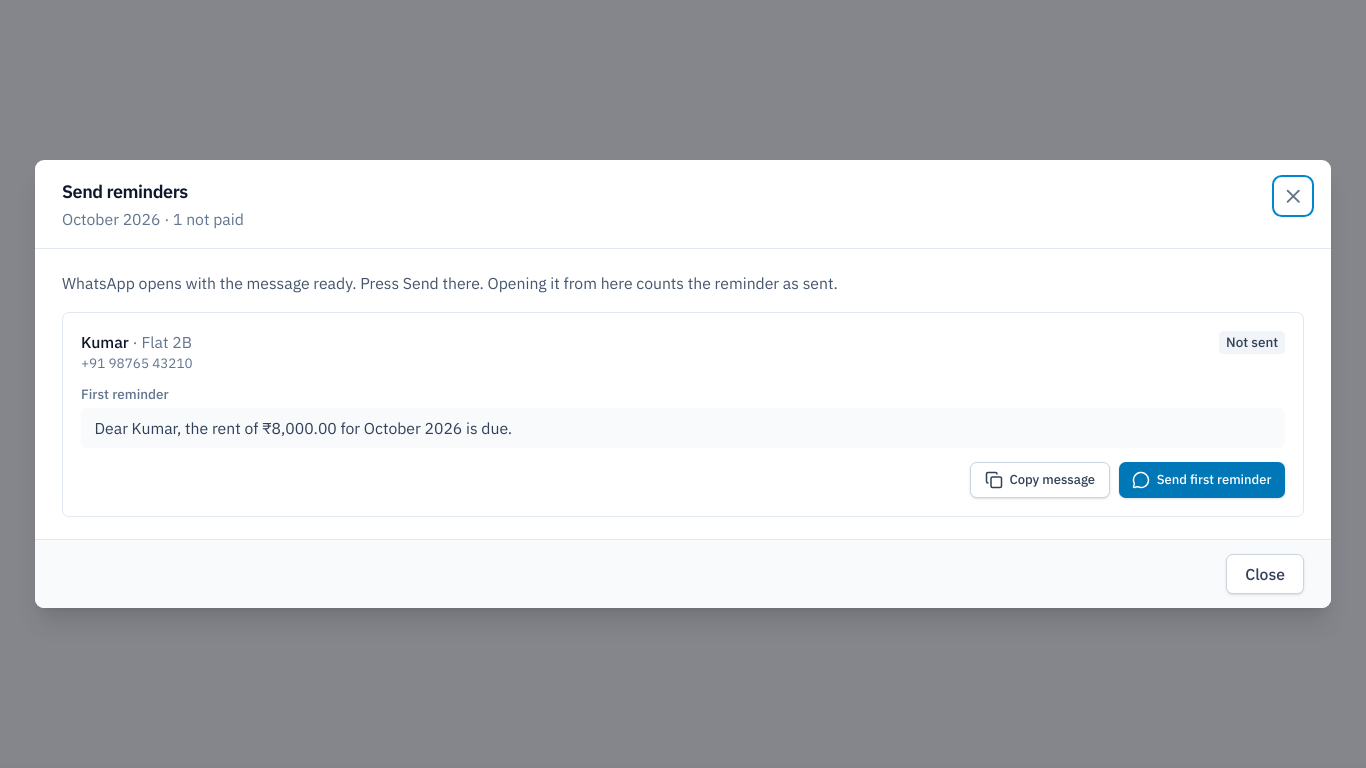
SendRemindersModal › shows why opening WhatsApp failed, on that tenant's row
Click the button "Send first reminder" at {"x": 1202, "y": 480}, box [1118,462,1285,498]
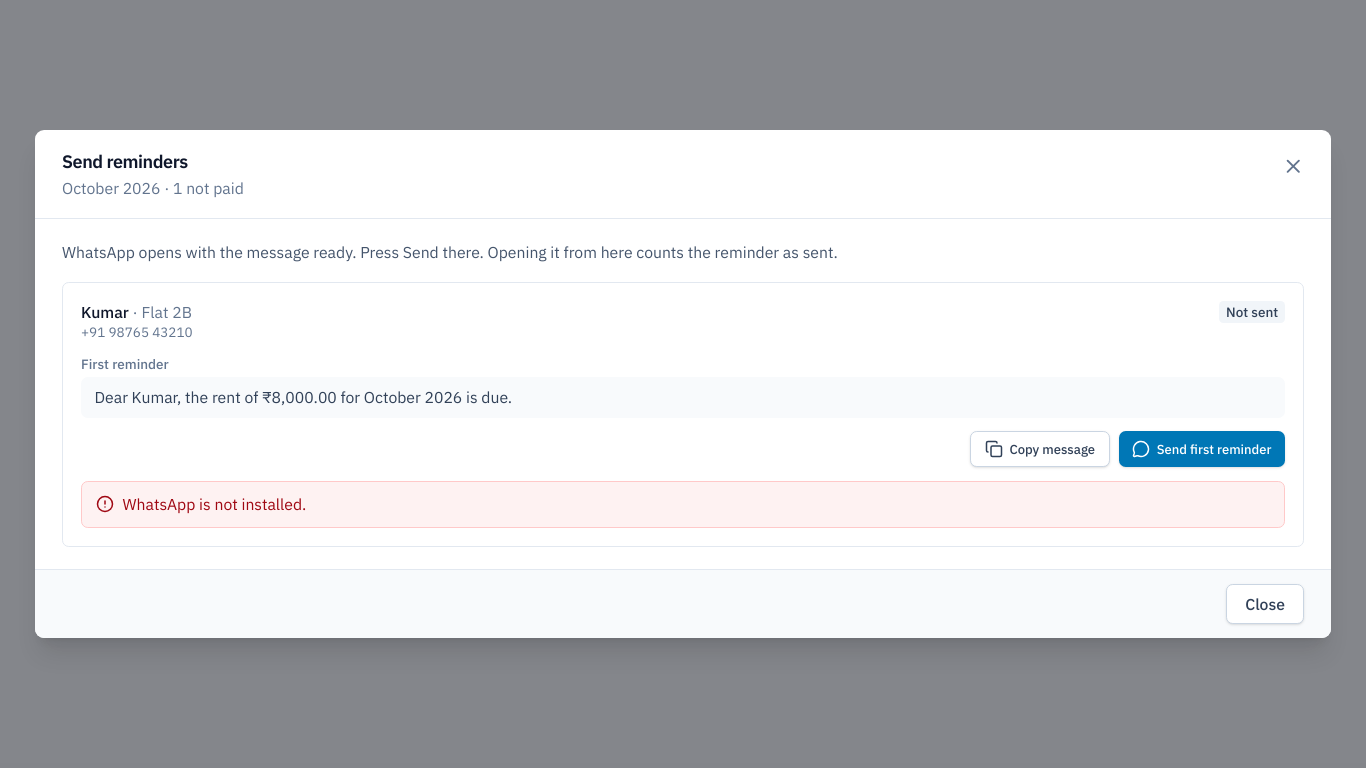
Check: the message reads "WhatsApp is not installed.", box [122,494,306,514]
